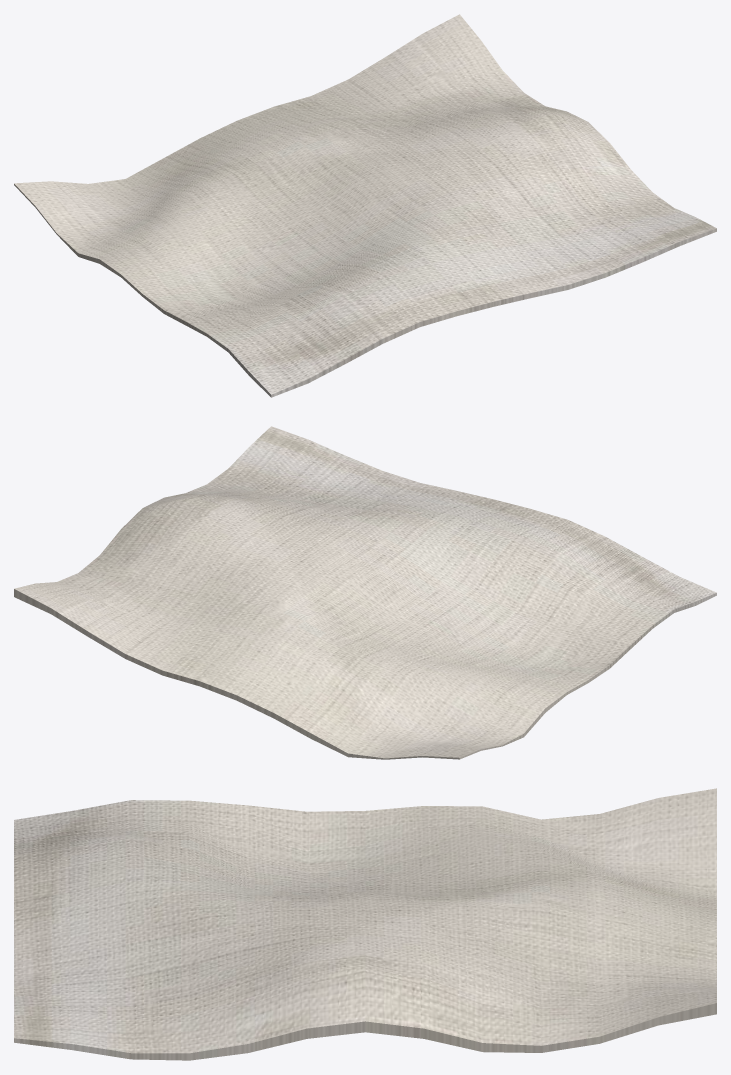
File: Napkin.FBX
3 renders of one model, top to bottom at view 1: azimuth 30°, elevation 25°; view 2: azimuth 150°, elevation 25°; view 3: azimuth 270°, elevation 25°, orthographic. The views are drawn at different scales.
Visible parts, largest first — view 1: Plane001; view 2: Plane001; view 3: Plane001.
Part boxes in pixels (<box>): Plane001: <box>14,14,716,397</box>; Plane001: <box>14,426,716,759</box>; Plane001: <box>14,788,716,1060</box>.
Size of the model in its own units: 0.3 by 0.058 by 0.3.
Materials: 1 (1 with a texture image).
